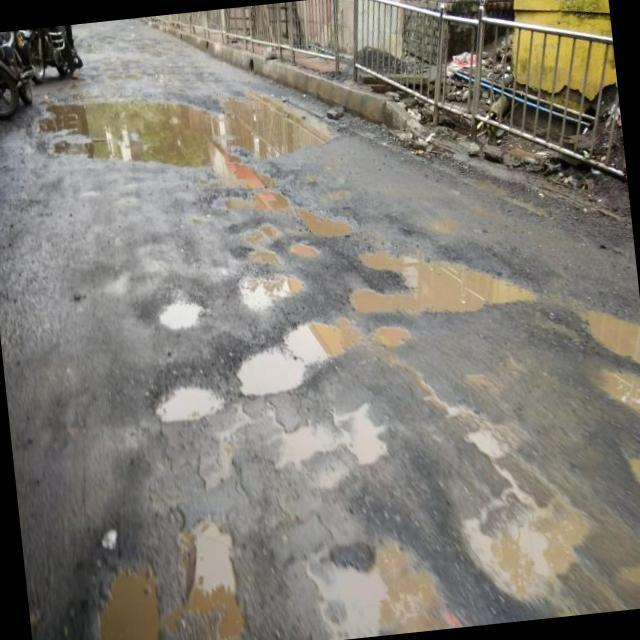Pothole: (40, 95, 350, 238), (98, 519, 244, 640), (462, 464, 588, 602), (305, 540, 453, 636), (349, 251, 536, 314), (236, 318, 361, 396), (275, 402, 386, 468), (581, 309, 640, 365), (157, 386, 225, 423), (238, 274, 303, 312), (595, 369, 640, 415), (464, 421, 506, 463), (242, 225, 280, 264), (159, 298, 203, 330), (373, 326, 410, 348), (619, 561, 640, 587), (291, 243, 317, 256)
